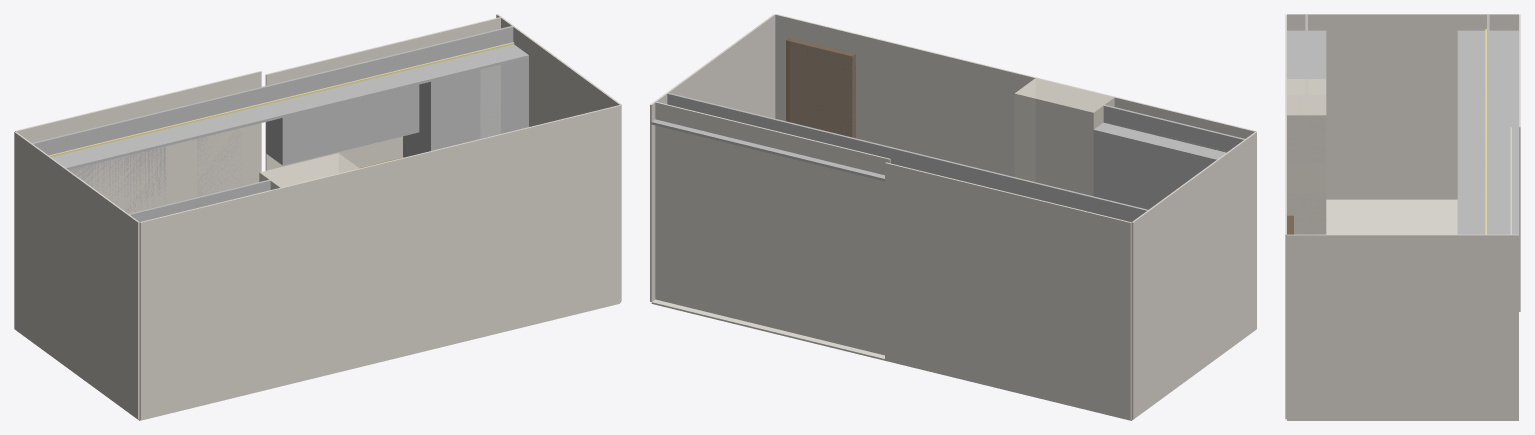
File: cocina.obj
The picture shows the model from 3 angles, left to right: view 1: azimuth 30°, elevation 25°; view 2: azimuth 150°, elevation 25°; view 3: azimuth 270°, elevation 25°; orthographic projection. The views are drawn at different scales.
Parts seen in each view (by area): view 1: Pared Sur, Pared Oeste, Pared Norte izq, Cove Norte, Cornisa Norte, Pared Este, Escobero, Pared Norte der, Campana/Especias, Frigorífico, Ventana grande, Vajilla izq (+7 smaller); view 2: Pared Norte izq, Pared Norte der, Pared Sur, Pared Oeste, Columna azulejo, Cove Norte, Pared Este, Puerta, Repisa electrodomésticos, Cove Sur, Suelo, Despensa Sur 1 (+3 smaller); view 3: Pared Este, Pared Oeste, Cornisa Norte, Columna azulejo, Suelo, Cornisa Sur, Pared Sur, Cove Norte, Pared Norte izq, LED Norte.
Boxes of the visible parts, x1,y1,x2,y2 form: Pared Sur: (139, 105, 620, 419); Pared Oeste: (14, 131, 139, 419); Pared Norte izq: (15, 71, 261, 213); Cove Norte: (32, 26, 513, 155); Cornisa Norte: (51, 44, 528, 169); Pared Este: (496, 14, 621, 301); Escobero: (403, 70, 480, 157); Pared Norte der: (265, 17, 500, 170); Campana/Especias: (309, 91, 390, 158); Frigorífico: (480, 58, 528, 138); Ventana grande: (69, 146, 166, 212); Vajilla izq: (266, 111, 309, 165); Pared Norte izq: (885, 162, 1131, 419); Pared Norte der: (655, 102, 890, 355); Pared Sur: (775, 14, 1256, 195); Pared Oeste: (1131, 132, 1256, 419); Columna azulejo: (1014, 78, 1114, 196); Cove Norte: (667, 93, 1148, 221); Pared Este: (650, 14, 775, 301); Puerta: (786, 38, 855, 138); Repisa electrodomésticos: (1093, 132, 1142, 207); Cove Sur: (1103, 104, 1244, 152); Suelo: (651, 299, 1241, 420); Despensa Sur 1: (1142, 144, 1172, 209); Pared Este: (1287, 234, 1518, 419); Pared Oeste: (1287, 14, 1518, 199); Cornisa Norte: (1457, 30, 1518, 234); Columna azulejo: (1287, 79, 1326, 234); Suelo: (1287, 199, 1518, 420); Cornisa Sur: (1287, 30, 1326, 78); Pared Sur: (1285, 14, 1286, 419); Cove Norte: (1487, 14, 1489, 234); Pared Norte izq: (1519, 14, 1520, 311); LED Norte: (1485, 29, 1486, 234).
Size of the model in its own units: 5.98 by 2.35 by 2.69.
